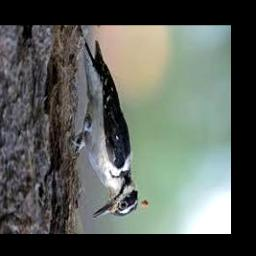Woodpecker: (72, 32, 149, 218)
